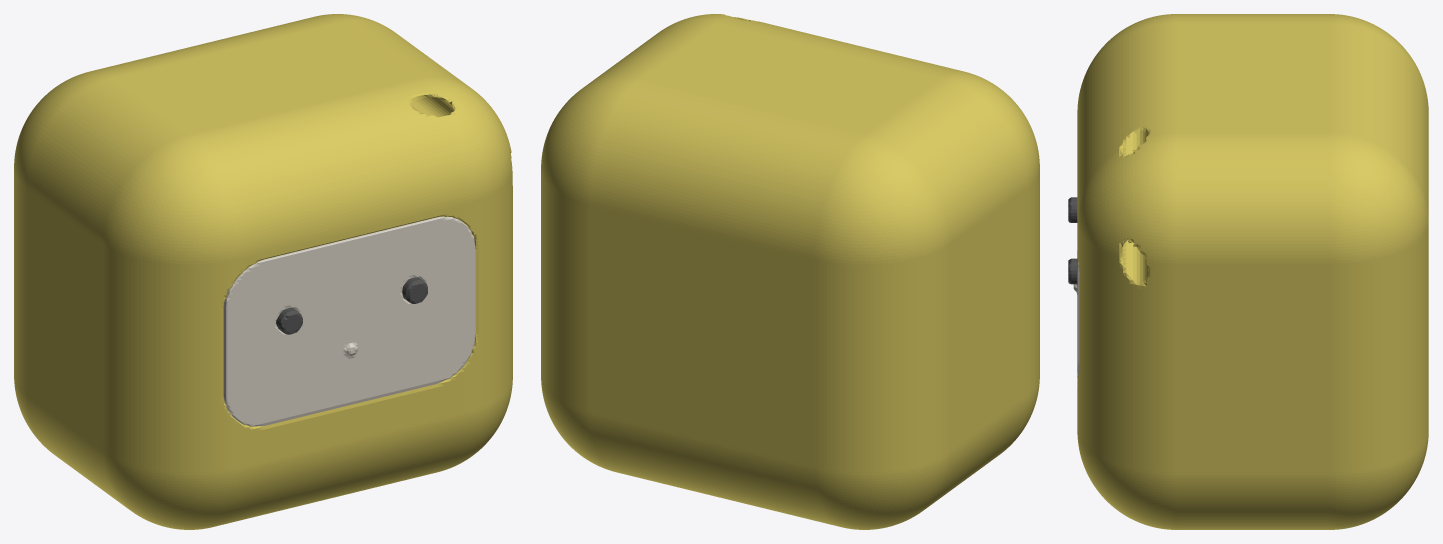
The model's file is cubo_personaje.glb.
3 views of the same model, side by side, from view 1: azimuth 30°, elevation 25°; view 2: azimuth 150°, elevation 25°; view 3: azimuth 270°, elevation 25° (orthographic).
Parts seen in each view (by area): view 1: world; view 2: world; view 3: world.
Boxes of the visible parts, box(x1,y1,x2,y2) form: world: box(14, 14, 512, 529); world: box(541, 14, 1039, 529); world: box(1068, 14, 1428, 529).
Size of the model in its own units: 60 by 56 by 47.2.
